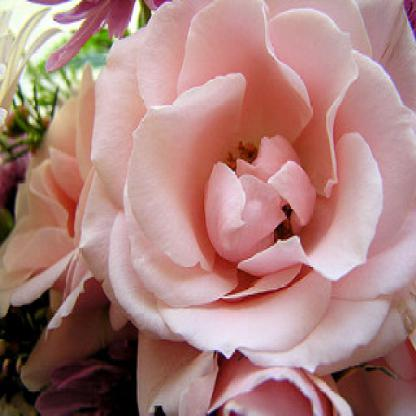ROSE-MAWAR: (2, 1, 416, 416)
